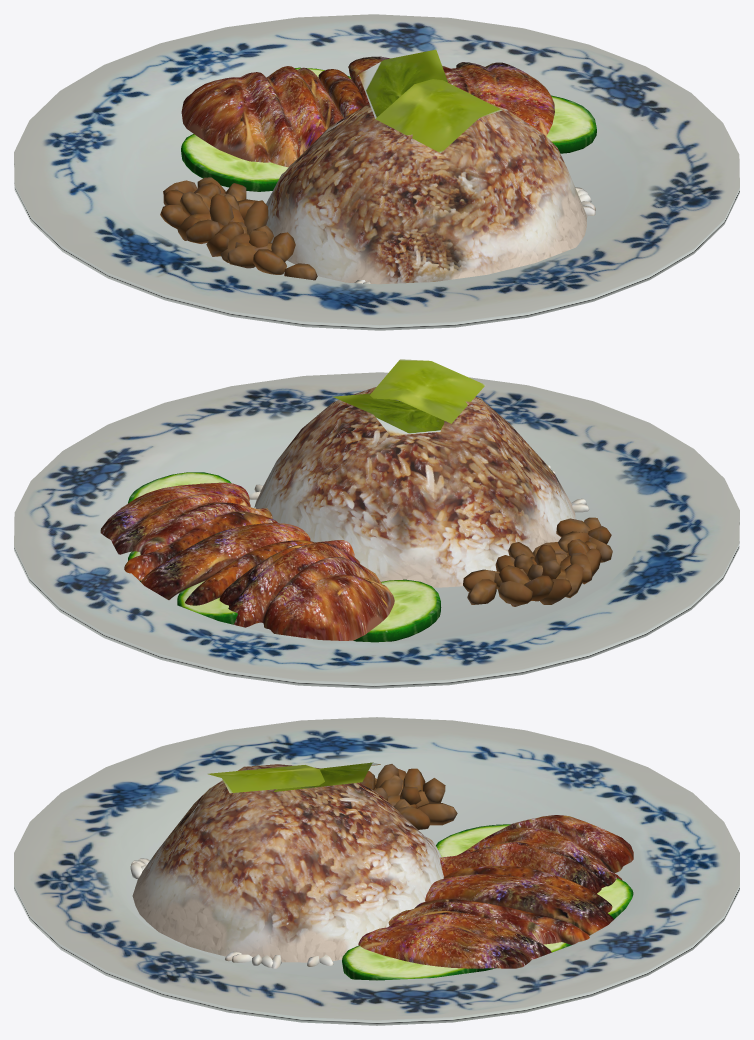
The model's file is Cantonese_Chicken _Rice.fbx.
3 renders of one model, top to bottom at view 1: azimuth 30°, elevation 25°; view 2: azimuth 150°, elevation 25°; view 3: azimuth 270°, elevation 25°, orthographic.
Parts seen in each view (by area): view 1: Cantonese_Chicken_Rice_1, Cantonese_Chicken_Rice_3, Cantonese_Chicken_Rice_6, Cantonese_Chicken_Rice_5, Cantonese_Chicken_Rice_4, Cantonese_Chicken_Rice_7, Cantonese_Chicken_Rice_2; view 2: Cantonese_Chicken_Rice_1, Cantonese_Chicken_Rice_3, Cantonese_Chicken_Rice_6, Cantonese_Chicken_Rice_5, Cantonese_Chicken_Rice_4, Cantonese_Chicken_Rice_7, Cantonese_Chicken_Rice_2; view 3: Cantonese_Chicken_Rice_1, Cantonese_Chicken_Rice_3, Cantonese_Chicken_Rice_6, Cantonese_Chicken_Rice_4, Cantonese_Chicken_Rice_5, Cantonese_Chicken_Rice_7, Cantonese_Chicken_Rice_2.
Part boxes in pixels (x1,y1,x2,y2): Cantonese_Chicken_Rice_1: (14,14,739,330); Cantonese_Chicken_Rice_3: (266,104,595,284); Cantonese_Chicken_Rice_6: (181,56,554,167); Cantonese_Chicken_Rice_5: (160,177,317,280); Cantonese_Chicken_Rice_4: (181,67,596,191); Cantonese_Chicken_Rice_7: (375,79,502,153); Cantonese_Chicken_Rice_2: (359,49,447,118); Cantonese_Chicken_Rice_1: (14,372,739,688); Cantonese_Chicken_Rice_3: (249,387,589,587); Cantonese_Chicken_Rice_6: (100,482,394,640); Cantonese_Chicken_Rice_5: (463,517,612,606); Cantonese_Chicken_Rice_4: (128,472,441,642); Cantonese_Chicken_Rice_7: (370,359,485,423); Cantonese_Chicken_Rice_2: (333,393,444,435); Cantonese_Chicken_Rice_1: (14,717,739,1025); Cantonese_Chicken_Rice_3: (130,764,443,968); Cantonese_Chicken_Rice_6: (358,815,633,968); Cantonese_Chicken_Rice_4: (342,824,633,980); Cantonese_Chicken_Rice_5: (360,764,457,829); Cantonese_Chicken_Rice_7: (207,765,324,793); Cantonese_Chicken_Rice_2: (274,762,380,791).
Bounding box in the file's own units: 277 × 60.91 × 281.
